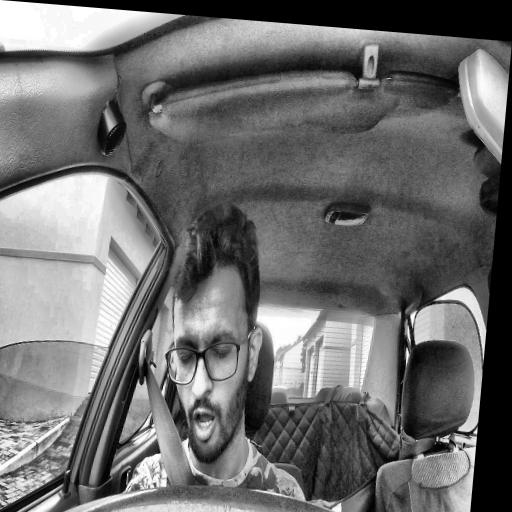drowsy: (155, 202, 275, 465)
